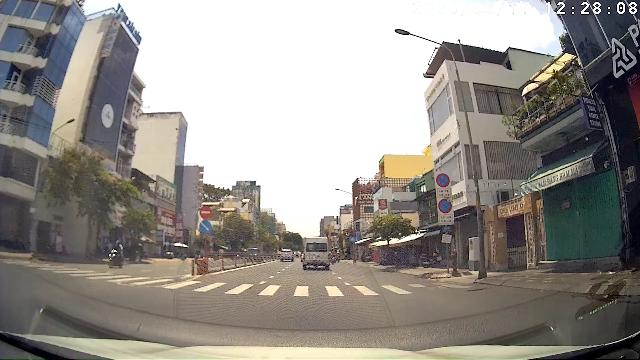102-cam-di-nguoc-chieu: (200, 206, 213, 218)
130-cam-dung-va-do-xe: (436, 173, 450, 188)
131a-cam-do-xe: (438, 198, 452, 213)
302a-huong-phai-di-vong-chuong-ngai-vat-1: (199, 220, 212, 234)
